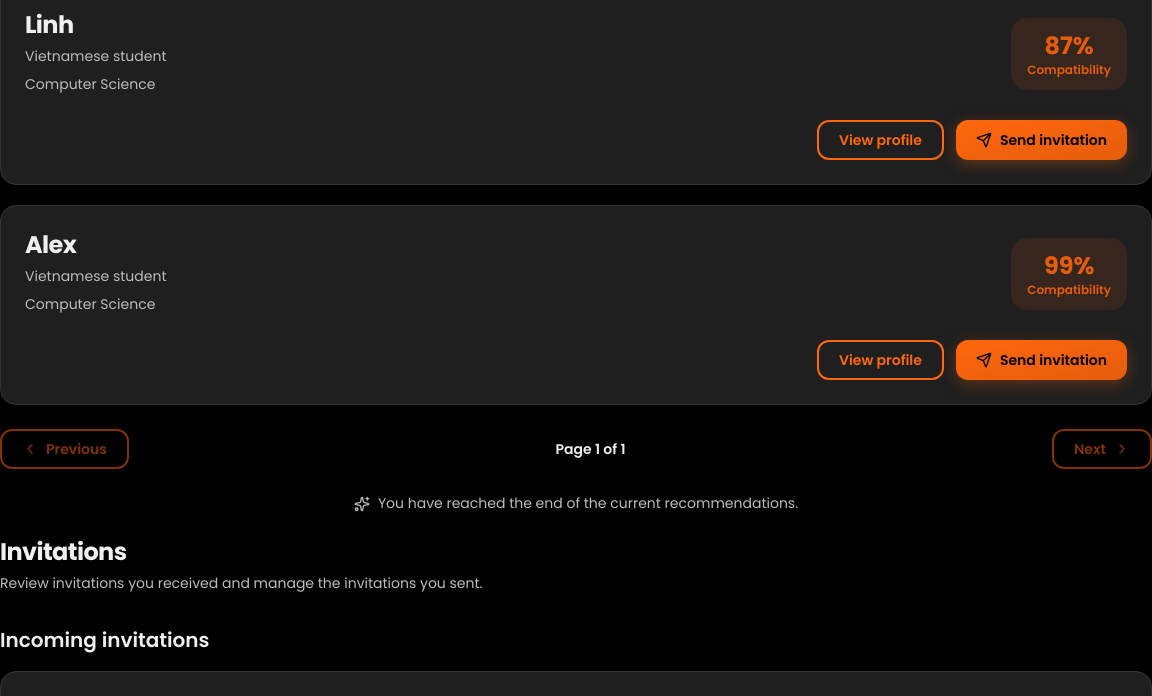
Test: REC-004 Recommended Buddies page › renders multiple candidates in exactly the order returned by the server
(page scrolled)
Expected: the heading "Linh" is shown, [25,8,74,41]
Expected: the heading "Alex" is shown, [25,228,76,261]
Click the button "View profile" below "99". click: (880, 360)
box: [817,340,944,380]
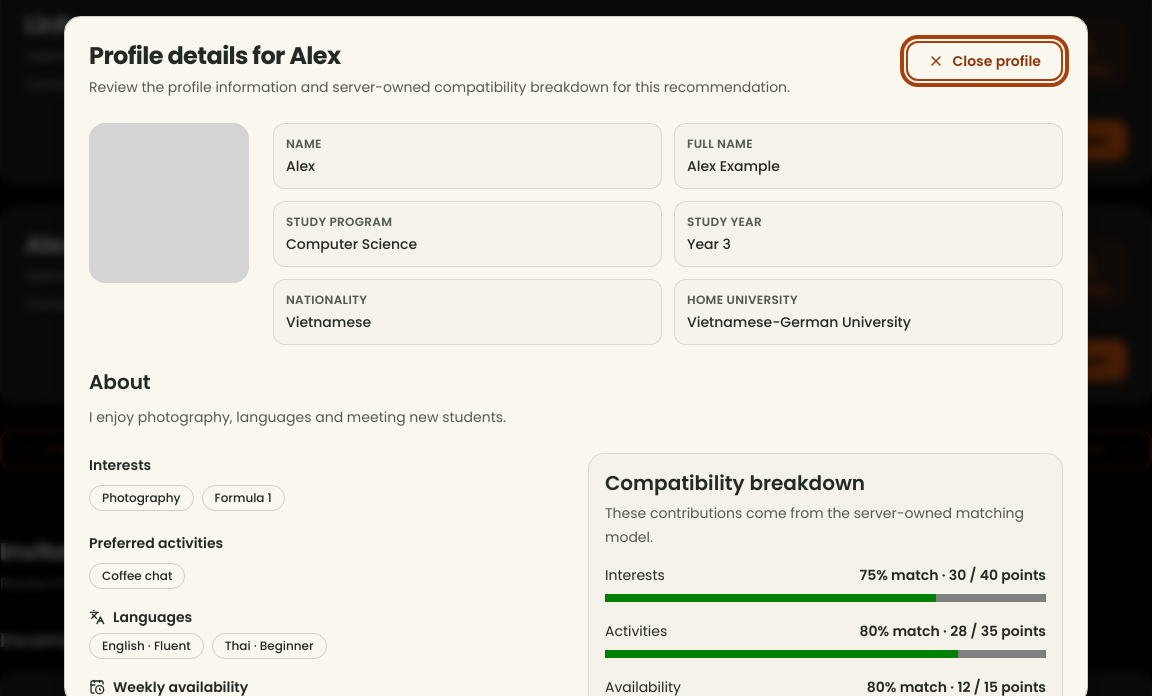
Expected: the text "Alex Example" is shown, [687,156,780,176]
